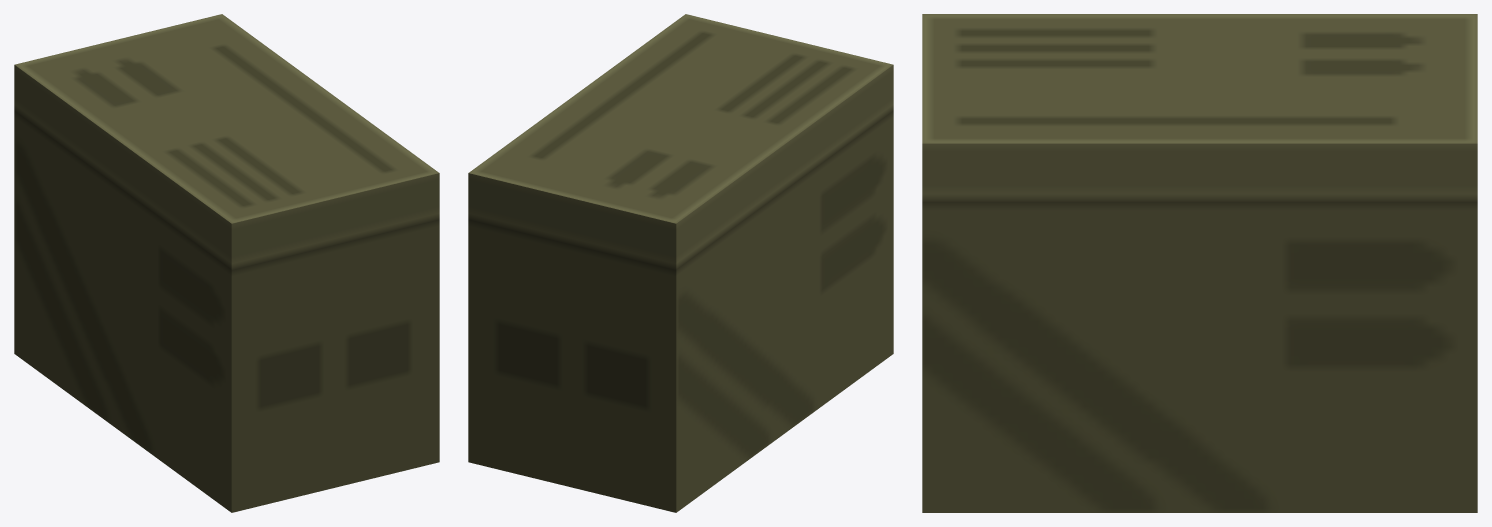
Rendered from Ammunition_03Magnum_Base_0_Mod.FBX.
The picture shows the model from 3 angles, left to right: view 1: azimuth 30°, elevation 25°; view 2: azimuth 150°, elevation 25°; view 3: azimuth 270°, elevation 25°; orthographic projection. The views are drawn at different scales.
Visible parts, largest first — view 1: Ammunition_03Magnum_Base_0_Mod; view 2: Ammunition_03Magnum_Base_0_Mod; view 3: Ammunition_03Magnum_Base_0_Mod.
Part boxes in pixels (x1,y1,x2,y2): Ammunition_03Magnum_Base_0_Mod: (14, 14, 439, 512); Ammunition_03Magnum_Base_0_Mod: (468, 14, 893, 512); Ammunition_03Magnum_Base_0_Mod: (922, 14, 1477, 512).
Bounding box in the file's own units: 9.76 × 12.98 × 17.67.
